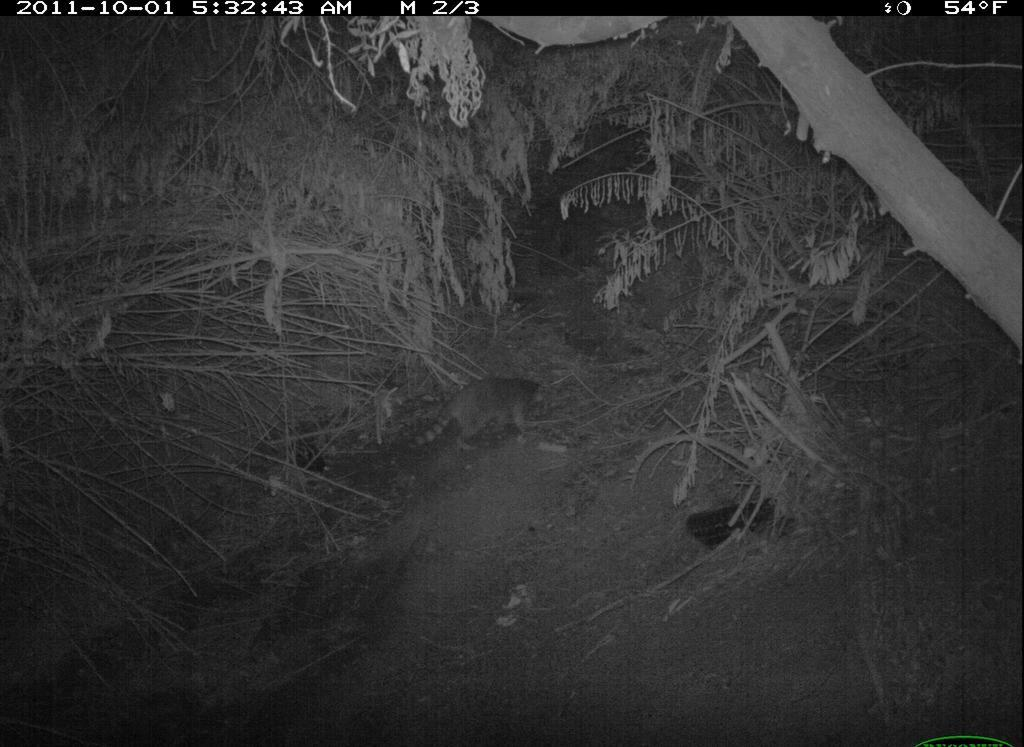raccoon: (402, 369, 551, 461)
